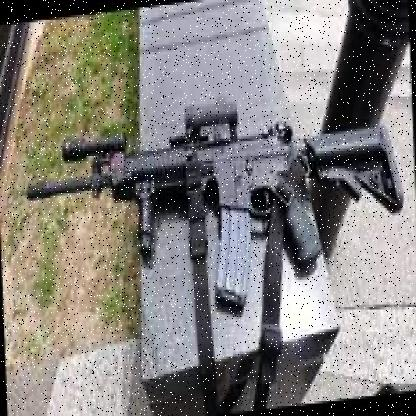rifle: (30, 101, 404, 324)
